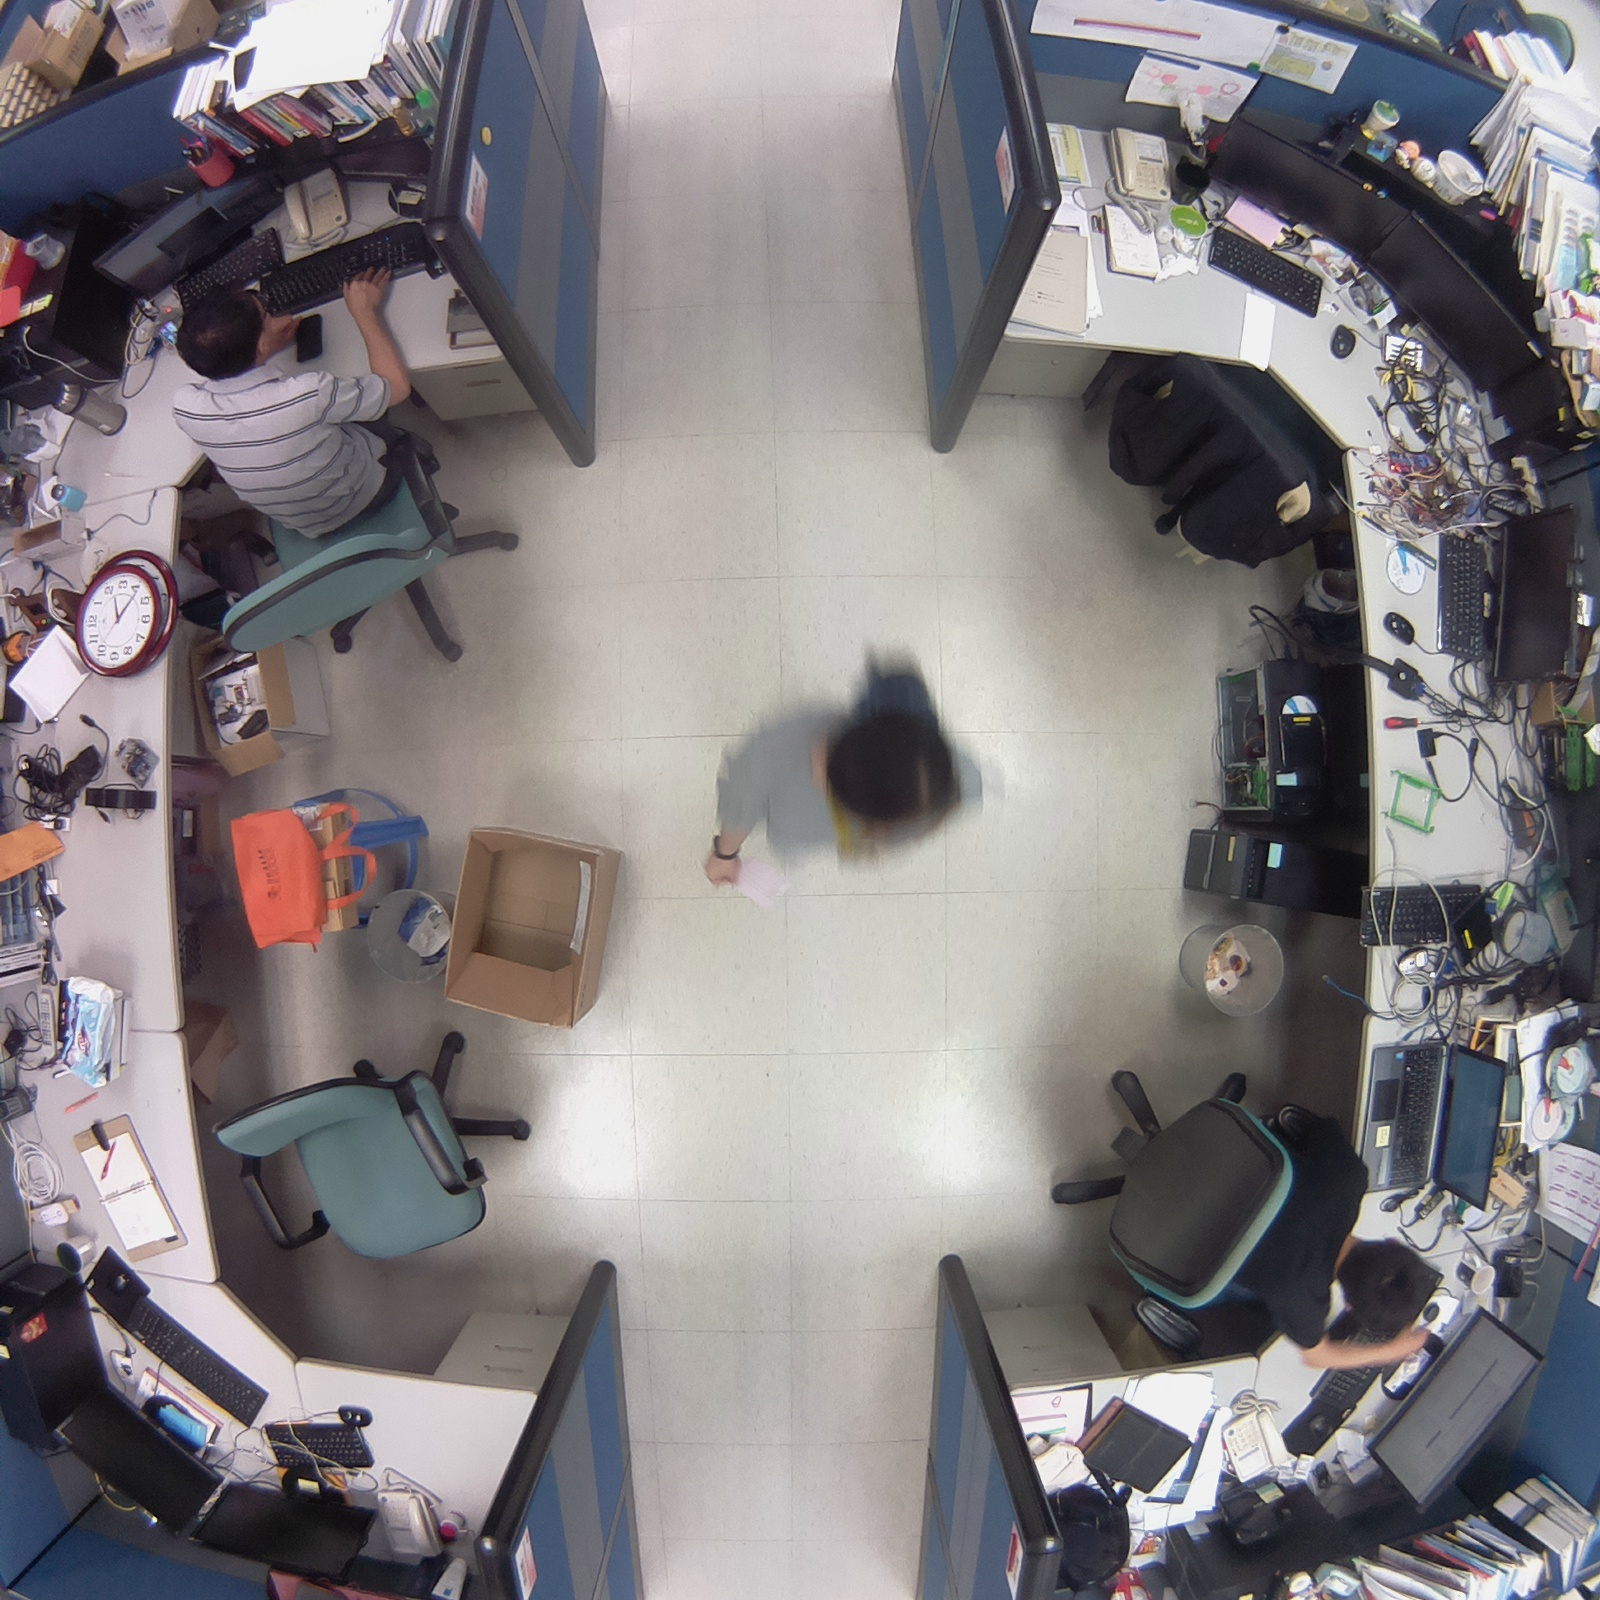chair: (201, 1014, 547, 1283), (1099, 319, 1345, 581)
head: (809, 653, 972, 865), (1337, 1231, 1446, 1343), (164, 284, 280, 374)
sitting: (150, 255, 535, 681), (1042, 1047, 1438, 1391)
walking: (688, 637, 1004, 912)
